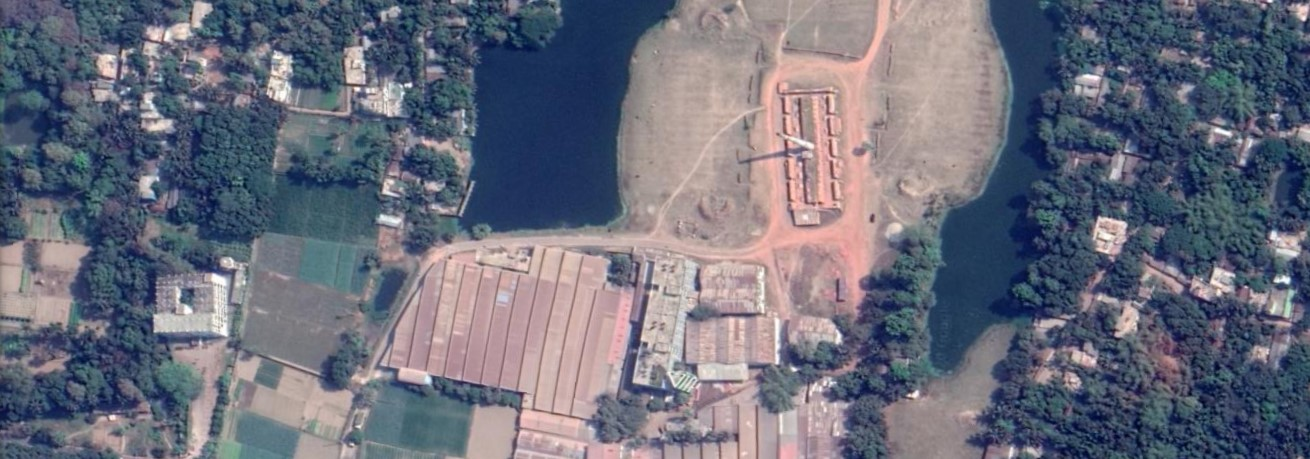kiln: (763, 79, 853, 238)
